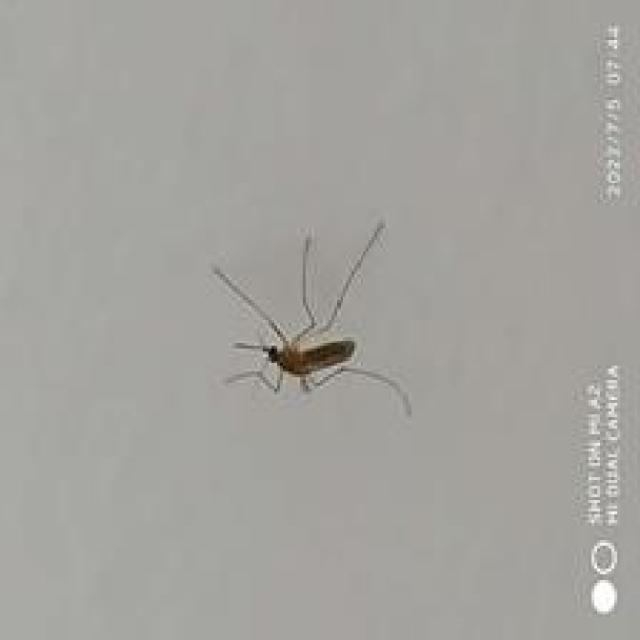Culex: (210, 218, 413, 418)
